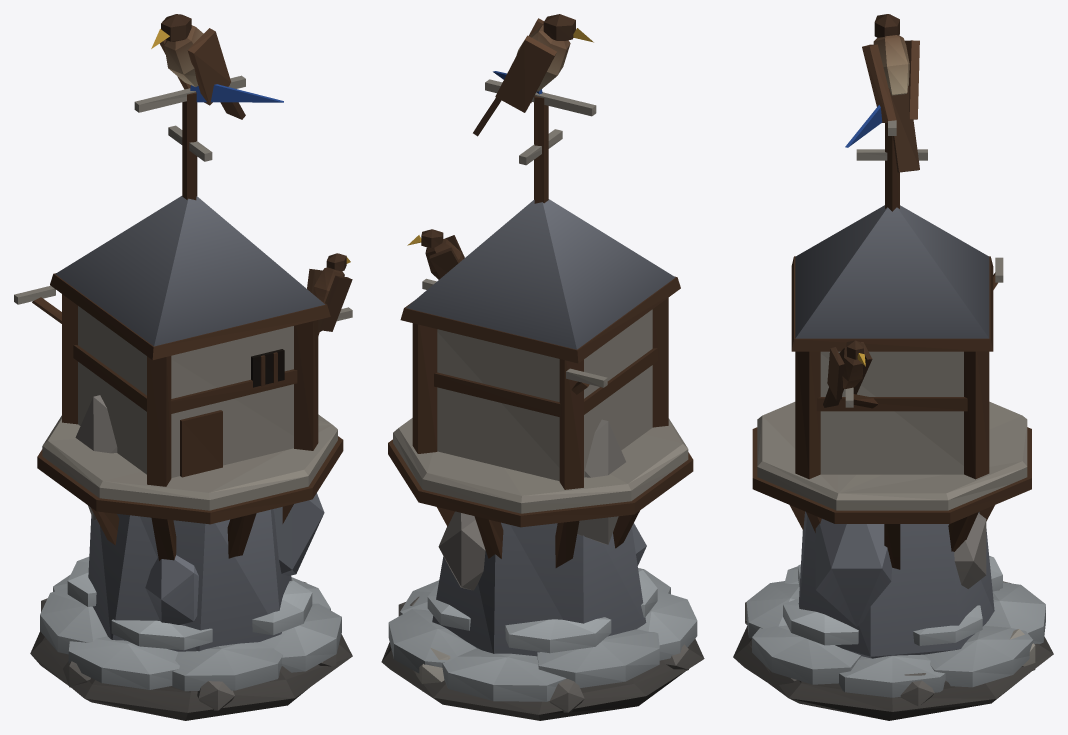
Rendered from hawk_roost.glb.
3 renders of one model, left to right at view 1: azimuth 30°, elevation 25°; view 2: azimuth 150°, elevation 25°; view 3: azimuth 270°, elevation 25°, orthographic.
Visible parts, largest first — view 1: hawk_roost; view 2: hawk_roost; view 3: hawk_roost.
Boxes of the visible parts, left/top/right/bottom form: hawk_roost: left=14, top=14, right=352, bottom=720; hawk_roost: left=381, top=14, right=704, bottom=720; hawk_roost: left=733, top=14, right=1053, bottom=720.
Size of the model in its own units: 0.8963 by 1.97 by 0.9001.
